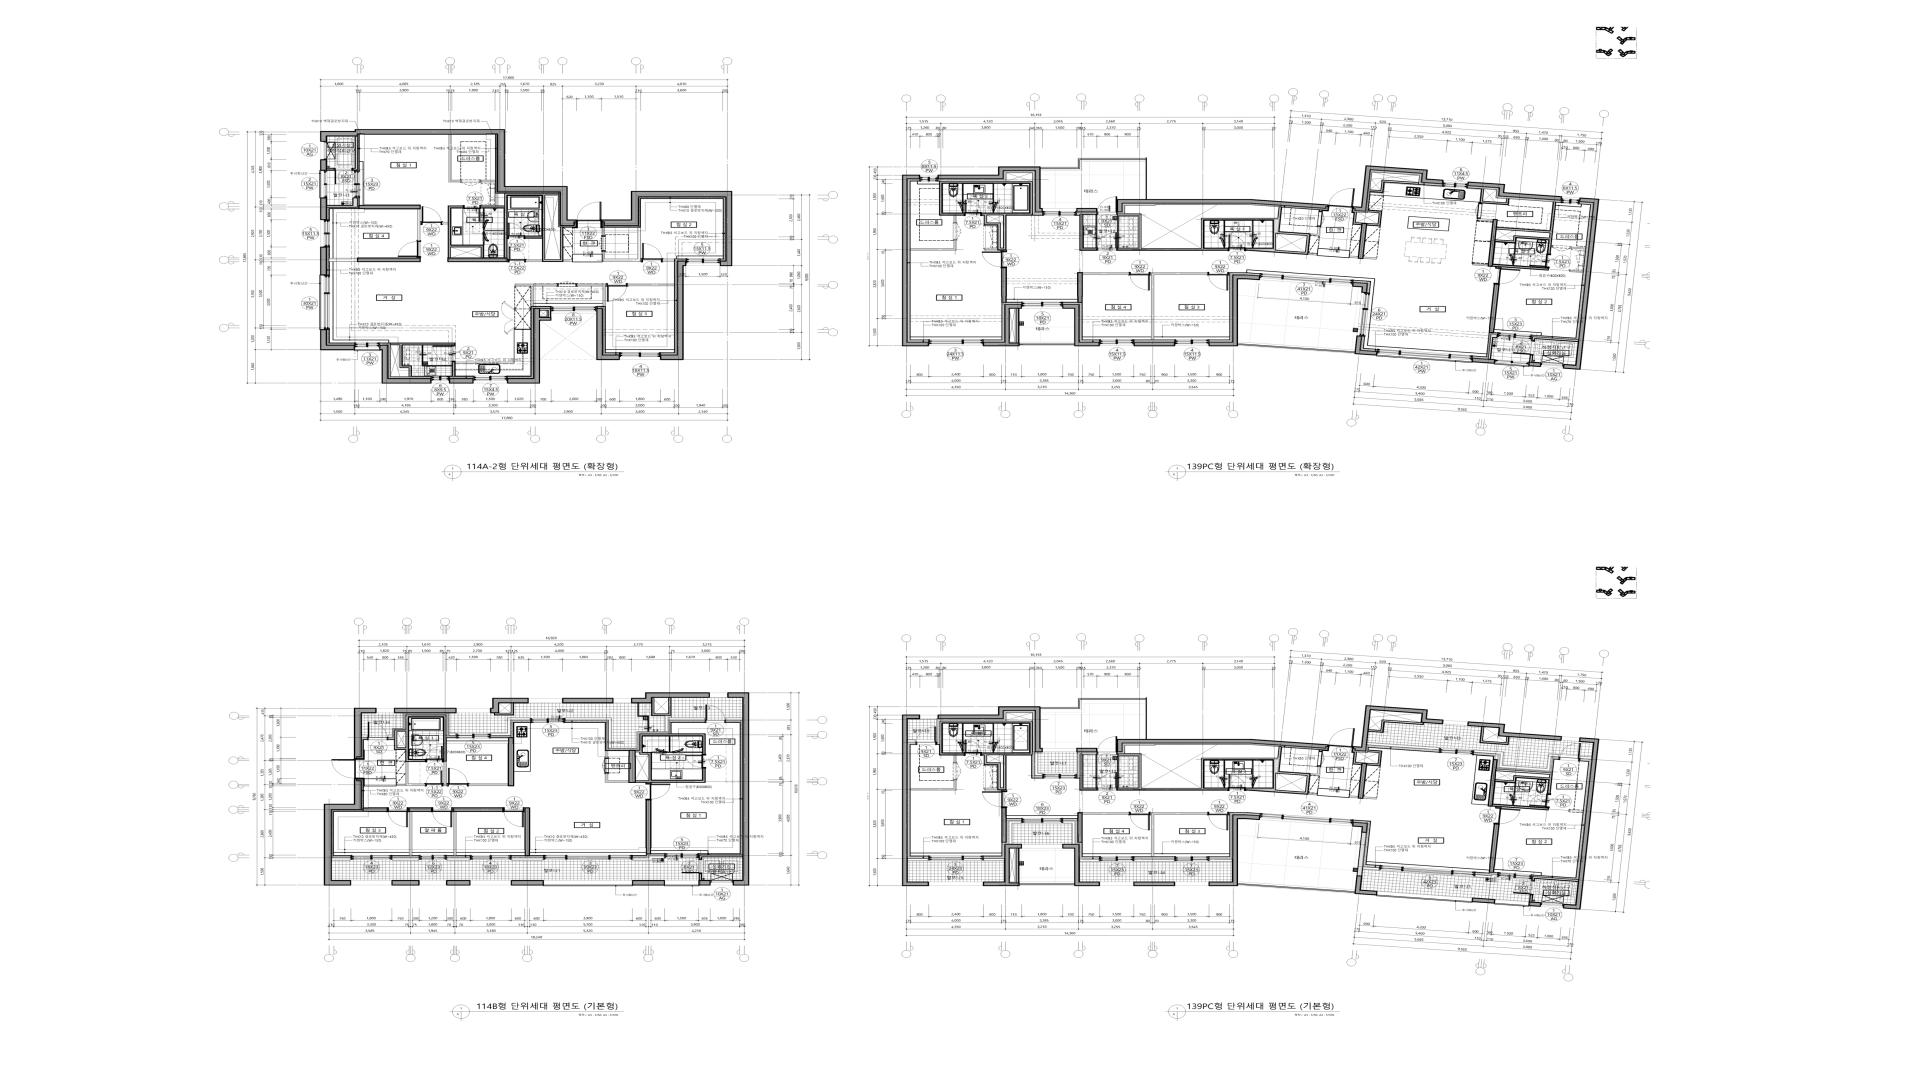door: (1328, 186, 1356, 214), (1328, 727, 1356, 753), (331, 758, 364, 779), (576, 202, 601, 228), (1494, 268, 1520, 286), (1494, 807, 1520, 825), (431, 807, 454, 828), (386, 807, 409, 827), (502, 807, 525, 827), (1559, 742, 1581, 762), (982, 251, 1007, 268), (645, 783, 670, 800), (982, 791, 1007, 808), (641, 243, 662, 262), (367, 721, 388, 741), (447, 767, 468, 787), (605, 284, 628, 302), (1129, 272, 1151, 290), (1129, 812, 1151, 831), (421, 207, 442, 225), (1208, 272, 1229, 290), (915, 727, 936, 745), (1208, 812, 1229, 831), (1097, 773, 1117, 791), (1097, 232, 1117, 251), (1097, 196, 1117, 215), (705, 704, 725, 723), (1097, 736, 1117, 754), (433, 345, 455, 361), (398, 241, 421, 257), (1513, 340, 1535, 356), (1530, 252, 1552, 268), (1513, 880, 1535, 895), (682, 858, 703, 874), (1530, 793, 1552, 807), (964, 199, 982, 216), (1228, 235, 1246, 252), (686, 754, 707, 769), (335, 167, 352, 185), (508, 247, 526, 262), (463, 206, 481, 222), (964, 740, 982, 756), (1228, 775, 1246, 791), (508, 223, 525, 239), (426, 771, 443, 787), (426, 746, 443, 762), (460, 179, 481, 186), (1551, 245, 1572, 252), (953, 223, 961, 240), (953, 762, 961, 779), (1474, 203, 1482, 219), (601, 758, 609, 773), (558, 281, 576, 286)
wall: (320, 129, 576, 225), (1117, 746, 1320, 795), (1117, 207, 1320, 256), (601, 191, 732, 266), (939, 181, 1033, 251), (939, 721, 1033, 790), (1563, 198, 1600, 371), (1563, 737, 1600, 910), (481, 194, 572, 262), (938, 166, 1043, 212), (938, 707, 1043, 753), (902, 175, 930, 347), (902, 715, 930, 886), (1040, 158, 1147, 199), (1040, 698, 1147, 738), (1353, 705, 1444, 752), (1353, 166, 1443, 212), (728, 692, 749, 886), (323, 779, 361, 886), (1151, 273, 1208, 340), (394, 715, 447, 786), (1209, 274, 1261, 347), (1209, 815, 1261, 886), (636, 733, 705, 783), (506, 309, 551, 384), (1495, 202, 1556, 253), (1117, 738, 1328, 752), (1117, 199, 1328, 212), (659, 261, 686, 360), (1151, 812, 1208, 857), (390, 343, 455, 377), (442, 206, 484, 257), (1017, 309, 1075, 345), (1017, 849, 1075, 886), (380, 345, 431, 384), (1468, 721, 1563, 741), (651, 698, 705, 732), (1474, 750, 1560, 771), (1468, 182, 1563, 200), (982, 305, 1022, 347), (982, 844, 1022, 886), (1063, 305, 1100, 347), (1063, 844, 1100, 886), (564, 717, 612, 749), (1495, 769, 1553, 794), (1238, 882, 1356, 894), (603, 228, 641, 262), (1238, 343, 1356, 353), (596, 309, 620, 360), (353, 708, 376, 758), (1357, 832, 1379, 876), (514, 284, 558, 306), (1370, 179, 1419, 196), (630, 692, 709, 703), (491, 717, 530, 736), (1369, 720, 1424, 733), (320, 330, 355, 351), (576, 284, 605, 306), (1080, 754, 1097, 791), (1080, 214, 1097, 251), (489, 698, 529, 713), (1367, 742, 1440, 750), (448, 135, 460, 182), (1480, 727, 1510, 745), (1487, 756, 1498, 807), (1480, 189, 1510, 206), (1489, 824, 1499, 873), (1489, 285, 1499, 334), (1487, 219, 1498, 266), (910, 779, 956, 790), (910, 240, 956, 251), (1493, 803, 1549, 811), (1356, 876, 1378, 895), (1356, 336, 1378, 356), (1493, 264, 1549, 270), (1358, 762, 1367, 799), (357, 257, 421, 262), (1358, 223, 1367, 258), (359, 204, 421, 210), (394, 708, 456, 713), (508, 737, 514, 786), (447, 257, 508, 262), (1009, 820, 1022, 844), (1532, 336, 1578, 343), (1063, 822, 1076, 844), (646, 800, 651, 855), (327, 198, 357, 207), (562, 698, 613, 703), (1487, 334, 1498, 359), (495, 703, 514, 716), (525, 807, 530, 856), (454, 807, 502, 812), (1367, 210, 1382, 227), (1532, 877, 1578, 882), (1367, 750, 1382, 766), (1001, 808, 1007, 843), (632, 880, 665, 886), (629, 750, 636, 783), (1134, 342, 1175, 347), (605, 774, 628, 783), (1001, 268, 1007, 297), (320, 247, 327, 276), (1353, 822, 1369, 833), (392, 880, 419, 886), (1035, 753, 1043, 775), (352, 137, 357, 170), (510, 881, 543, 886), (409, 812, 413, 856), (699, 855, 742, 858), (1353, 282, 1369, 293), (1077, 272, 1083, 303), (633, 856, 665, 861), (1134, 882, 1175, 886), (1134, 858, 1175, 862), (1077, 812, 1083, 843), (1472, 357, 1495, 364), (320, 198, 327, 220), (448, 378, 473, 384), (446, 881, 471, 886), (1472, 898, 1495, 903), (363, 807, 386, 812), (1353, 752, 1362, 765), (1083, 812, 1129, 815), (628, 284, 674, 286), (1353, 212, 1362, 225), (1083, 273, 1129, 276), (409, 807, 431, 812), (328, 258, 357, 262), (454, 812, 456, 856), (1076, 748, 1097, 753), (468, 783, 508, 786), (1476, 874, 1498, 878), (1209, 858, 1232, 862), (541, 309, 551, 316), (418, 210, 421, 241), (1076, 208, 1097, 212), (512, 858, 543, 861), (1080, 858, 1100, 862), (320, 160, 327, 171), (699, 880, 711, 886), (451, 363, 456, 377), (392, 858, 419, 861), (1528, 902, 1542, 907), (1528, 361, 1542, 367), (447, 858, 469, 861), (907, 858, 928, 861), (984, 858, 1004, 861), (332, 858, 351, 861), (1580, 756, 1592, 760), (662, 258, 674, 262), (725, 717, 742, 720), (1477, 219, 1493, 222), (1473, 264, 1487, 266), (1569, 270, 1584, 273), (1572, 247, 1586, 249), (1364, 796, 1377, 799), (1364, 257, 1377, 260), (496, 194, 498, 206), (1530, 355, 1534, 363), (1530, 895, 1534, 902), (1349, 795, 1358, 798), (1349, 256, 1358, 258), (603, 228, 605, 236), (514, 785, 530, 786), (699, 874, 703, 880), (481, 181, 496, 182), (953, 216, 956, 223), (327, 167, 334, 170), (953, 756, 956, 762), (909, 740, 915, 742), (450, 733, 456, 736), (605, 752, 608, 758), (361, 735, 367, 737), (388, 735, 393, 737)
window: (1377, 349, 1473, 363), (1261, 273, 1353, 286), (1379, 865, 1476, 877), (1377, 891, 1472, 903), (1261, 814, 1353, 825), (1357, 293, 1370, 336), (319, 276, 330, 330), (543, 855, 633, 860), (545, 881, 632, 886), (551, 306, 596, 314), (930, 339, 982, 345), (620, 352, 659, 360), (928, 856, 984, 861), (1439, 748, 1474, 756), (1498, 332, 1532, 340), (686, 258, 720, 266), (1498, 872, 1532, 880), (1022, 302, 1063, 309), (1022, 818, 1063, 824), (1043, 208, 1076, 216), (473, 376, 506, 384), (1495, 899, 1528, 907), (320, 220, 330, 247), (1100, 856, 1134, 862), (1175, 856, 1209, 862), (1175, 339, 1209, 345), (1100, 339, 1134, 345), (469, 855, 512, 860), (352, 170, 360, 198), (1495, 360, 1528, 367), (351, 855, 392, 860), (930, 882, 982, 886), (319, 171, 327, 198), (1443, 181, 1468, 189), (355, 343, 380, 351), (1043, 773, 1077, 778), (665, 881, 699, 886), (665, 853, 699, 858), (456, 733, 491, 738), (456, 708, 489, 713), (351, 881, 392, 885), (1022, 844, 1062, 848), (471, 881, 510, 885), (1542, 902, 1564, 909), (1561, 196, 1580, 204), (419, 855, 447, 860), (431, 376, 448, 384), (530, 719, 564, 723), (1443, 720, 1468, 725), (1043, 748, 1076, 752), (1100, 882, 1133, 886), (1175, 882, 1208, 886), (529, 699, 562, 703), (1542, 363, 1564, 368), (711, 880, 733, 885), (320, 142, 327, 160), (920, 175, 938, 182), (419, 881, 446, 885), (709, 692, 727, 698), (377, 708, 394, 713), (1561, 737, 1580, 741), (920, 715, 938, 719), (613, 699, 630, 703)
